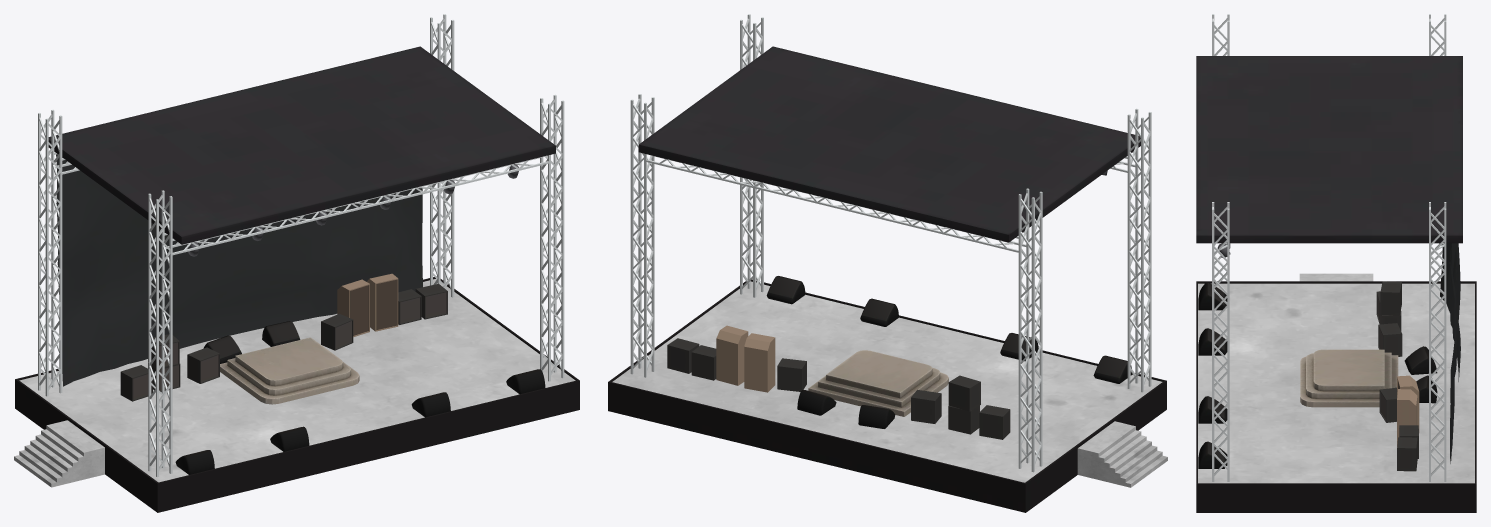
Rendered from concertStageWithMat.glb.
3 views of the same model, side by side, from view 1: azimuth 30°, elevation 25°; view 2: azimuth 150°, elevation 25°; view 3: azimuth 270°, elevation 25° (orthographic).
Parts seen in each view (by area): view 1: concert-stage.main.final; view 2: concert-stage.main.final; view 3: concert-stage.main.final.
Boxes of the visible parts, bbox=[...] form: concert-stage.main.final: bbox=[14, 14, 579, 512]; concert-stage.main.final: bbox=[608, 14, 1167, 512]; concert-stage.main.final: bbox=[1196, 14, 1476, 512].
Size of the model in its own units: 22.02 by 13.48 by 11.43.
1 material, 1 textured.
